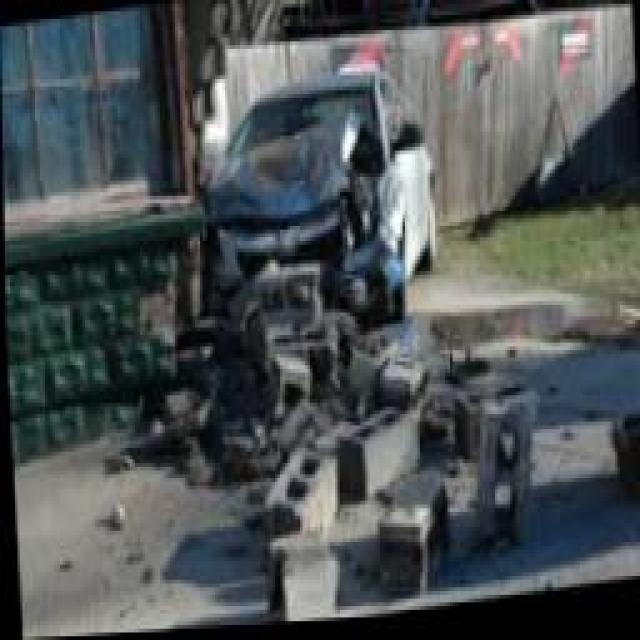Bonnet: (203, 123, 383, 220)
Bumper: (214, 209, 389, 334)
Light: (343, 174, 392, 252)
